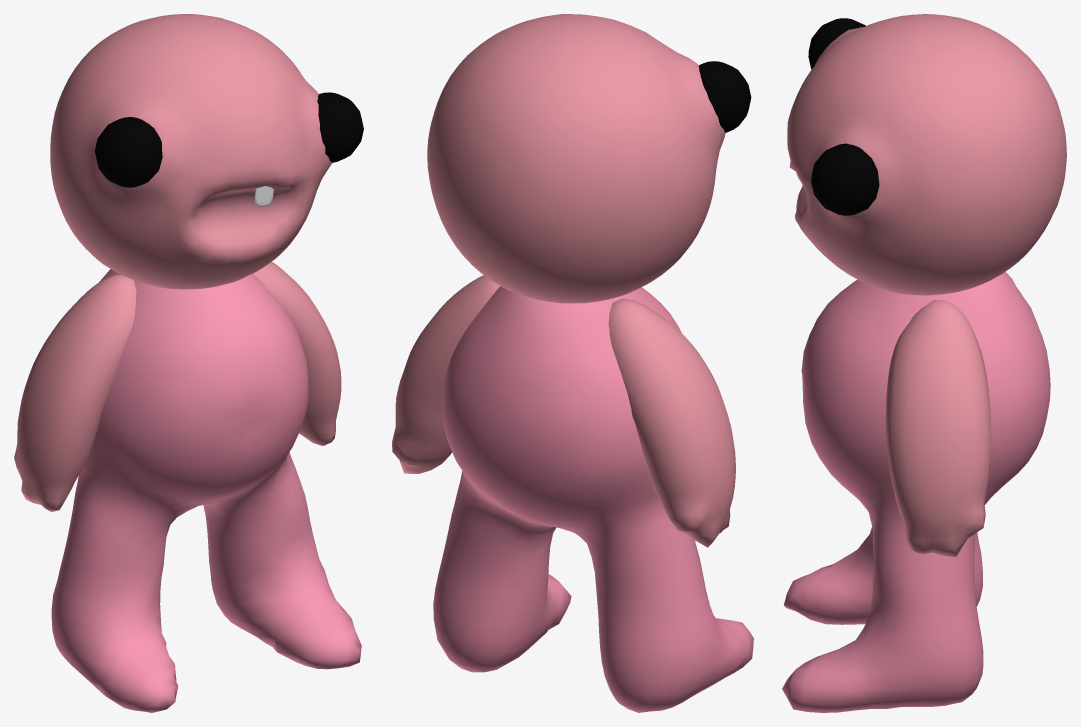
File: Bob.glb
3 renders of one model, left to right at view 1: azimuth 30°, elevation 25°; view 2: azimuth 150°, elevation 25°; view 3: azimuth 270°, elevation 25°, orthographic. The views are drawn at different scales.
Visible parts, largest first — view 1: Body_Cube.002, Head_Cube, Arms_Cube.003, Eyes_Sphere; view 2: Body_Cube.002, Head_Cube, Arms_Cube.003, Eyes_Sphere; view 3: Head_Cube, Body_Cube.002, Arms_Cube.003, Eyes_Sphere.
Part boxes in pixels (left/top/right/bottom): Body_Cube.002: left=51, top=269, right=361, bottom=712; Head_Cube: left=50, top=14, right=331, bottom=289; Arms_Cube.003: left=14, top=261, right=341, bottom=512; Eyes_Sphere: left=95, top=92, right=363, bottom=187; Body_Cube.002: left=433, top=286, right=753, bottom=712; Head_Cube: left=427, top=14, right=725, bottom=303; Arms_Cube.003: left=392, top=275, right=735, bottom=547; Eyes_Sphere: left=698, top=61, right=751, bottom=132; Head_Cube: left=787, top=14, right=1066, bottom=295; Body_Cube.002: left=782, top=272, right=1050, bottom=712; Arms_Cube.003: left=885, top=300, right=991, bottom=556; Eyes_Sphere: left=808, top=18, right=879, bottom=215.
Size of the model in its own units: 0.7868 by 1.52 by 0.6182.
